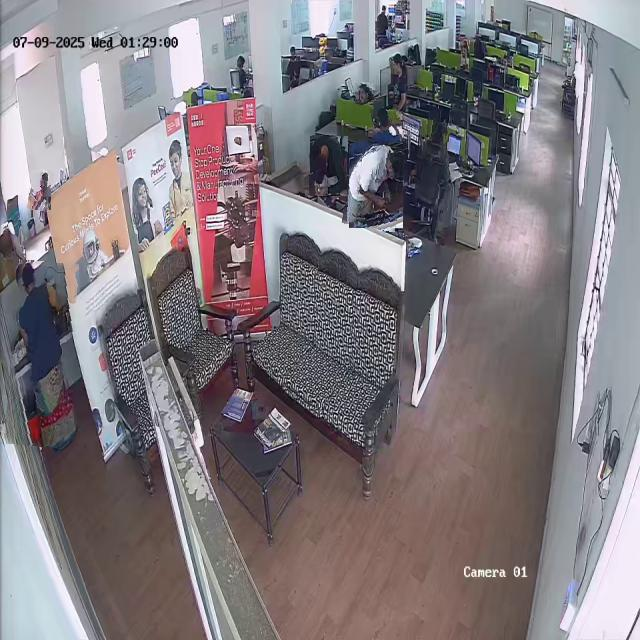person: (8, 260, 76, 447), (346, 141, 406, 230), (419, 121, 456, 211), (309, 136, 348, 196), (372, 105, 404, 145), (390, 53, 410, 113), (29, 170, 53, 211), (354, 82, 374, 105)
